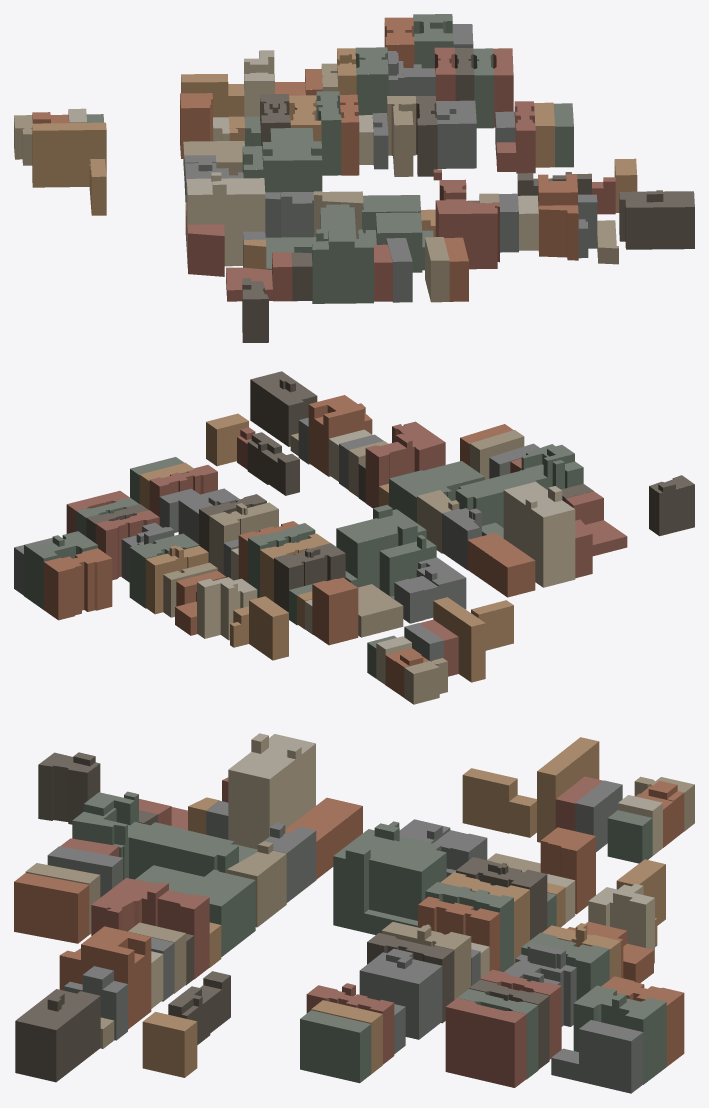
The model's file is tile-3_3.glb.
3 renders of one model, top to bottom at view 1: azimuth 30°, elevation 25°; view 2: azimuth 150°, elevation 25°; view 3: azimuth 270°, elevation 25°, orthographic. The views are drawn at different scales.
Visible parts, largest first — view 1: wall, roof; view 2: wall, roof; view 3: wall, roof.
Boxes of the visible parts, x1,y1,x2,y2 form: wall: [14, 15, 694, 342]; roof: [14, 14, 694, 299]; wall: [14, 379, 694, 704]; roof: [14, 371, 694, 673]; wall: [14, 736, 694, 1093]; roof: [14, 733, 694, 1063].
Size of the model in its own units: 208 by 39.03 by 214.
